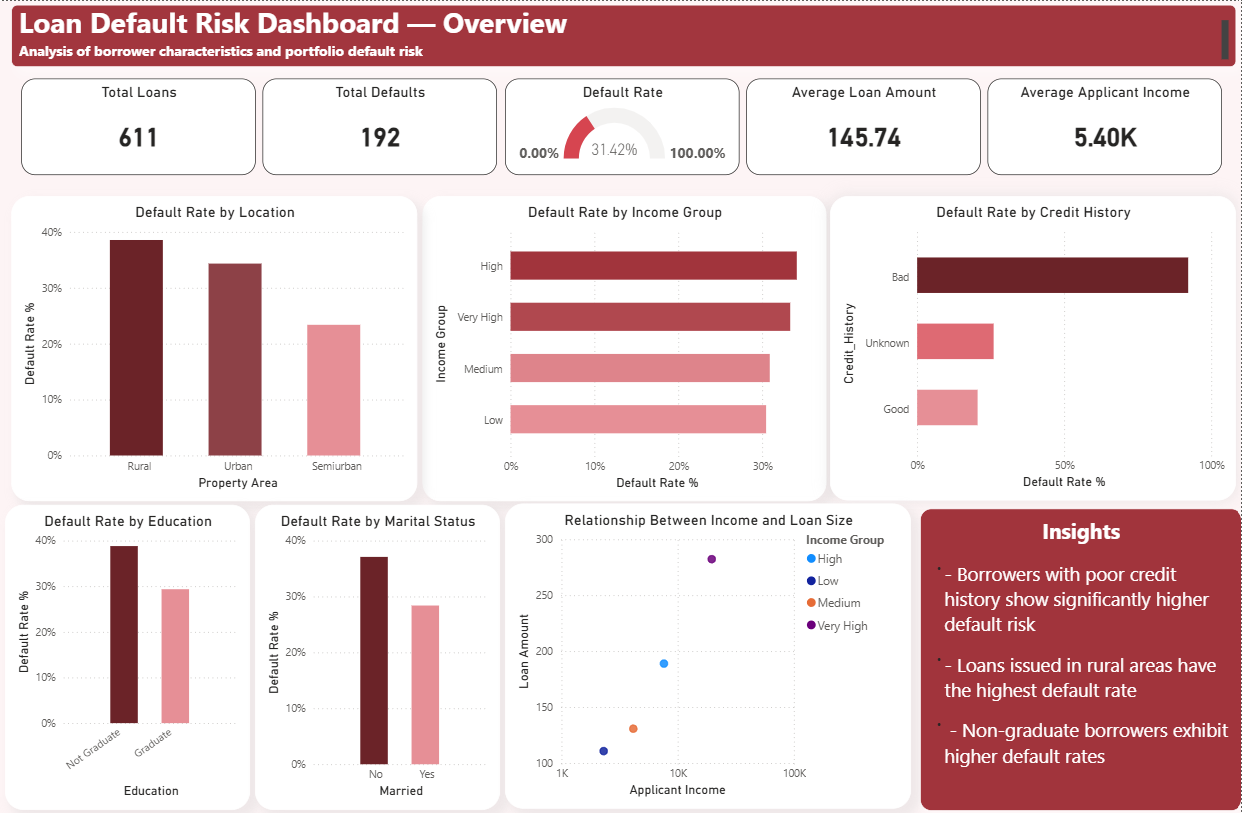

This screenshot's page, from the dashboard's own definition file:
{"tool":"powerbi","page":{"name":"Page 1","canvas":[1420,929],"ordinal":0},"visuals":[{"type":"card","title":"Total Loans","fields":{"Values":["loan_clean.Total Loans"]},"box":[24.7,88.6,268,110],"z":0},{"type":"card","title":"Total Defaults","fields":{"Values":["loan_clean.Total Defaults"]},"box":[300.7,88.6,268,110],"z":1000},{"type":"gauge","title":"Default Rate ","fields":{"Y":["loan_clean.Default Rate %"]},"box":[576.7,88.6,268,110],"z":2000},{"type":"card","title":"Average Loan Amount","fields":{"Values":["loan_clean.Avg Loan Amount"]},"box":[852.7,88.6,268,110],"z":3000},{"type":"card","title":"Average Applicant Income","fields":{"Values":["loan_clean.Avg Applicant Income"]},"box":[1128.7,88.6,268,110],"z":4000},{"type":"clusteredBarChart","title":"Default Rate by Income Group","fields":{"Category":["loan_clean.income_group"],"Y":["loan_clean.Default Rate %"]},"box":[482.9,222.9,461.4,348.6],"z":5000},{"type":"clusteredBarChart","title":"Default Rate by Credit History","fields":{"Category":["loan_clean.Credit_History"],"Y":["loan_clean.Default Rate %"]},"box":[948.3,222.9,464,348],"z":6000},{"type":"clusteredColumnChart","title":"Default Rate by Location","fields":{"Category":["loan_clean.Property_Area"],"Y":["loan_clean.Default Rate %"]},"box":[12.9,222.9,464.3,348.6],"z":7000},{"type":"textbox","box":[12.9,4.3,1400,71.4],"z":8000},{"type":"columnChart","title":"Default Rate by Education","fields":{"Category":["loan_clean.Education"],"Y":["loan_clean.Default Rate %"]},"box":[5.7,575.7,280,348.6],"z":9000},{"type":"columnChart","title":"Default Rate by Marital Status","fields":{"Y":["loan_clean.Default Rate %"],"Category":["loan_clean.Married"]},"box":[291.4,575.7,280,348.6],"z":9001},{"type":"scatterChart","title":"Relationship Between Income and Loan Size","fields":{"X":["loan_clean.Avg Applicant Income"],"Y":["Avg(loan_clean.LoanAmount)"],"Series":["loan_clean.income_group"]},"box":[577.1,574.3,464.3,348.6],"z":9002},{"type":"textbox","box":[1051.4,580,368.6,345.7],"z":9003}]}

Visuals, with their boxes in screenshot pixels (x1, y1, x2, y2), scaled from the page's 1420x929 canvas onto the 1242x813 screenshot:
"Total Loans" card: crop(22, 78, 256, 174)
"Total Defaults" card: crop(263, 78, 497, 174)
"Default Rate " gauge: crop(504, 78, 739, 174)
"Average Loan Amount" card: crop(746, 78, 980, 174)
"Average Applicant Income" card: crop(987, 78, 1222, 174)
"Default Rate by Income Group" clusteredBarChart: crop(422, 195, 826, 500)
"Default Rate by Credit History" clusteredBarChart: crop(829, 195, 1235, 500)
"Default Rate by Location" clusteredColumnChart: crop(11, 195, 417, 500)
textbox: crop(11, 4, 1236, 66)
"Default Rate by Education" columnChart: crop(5, 504, 250, 809)
"Default Rate by Marital Status" columnChart: crop(255, 504, 500, 809)
"Relationship Between Income and Loan Size" scatterChart: crop(505, 503, 911, 808)
textbox: crop(920, 508, 1241, 810)
